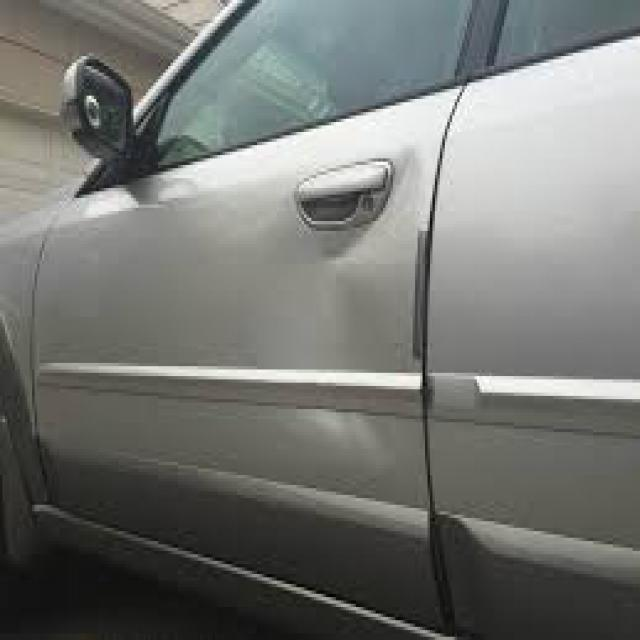doorouter-dent: (247, 122, 486, 600)
